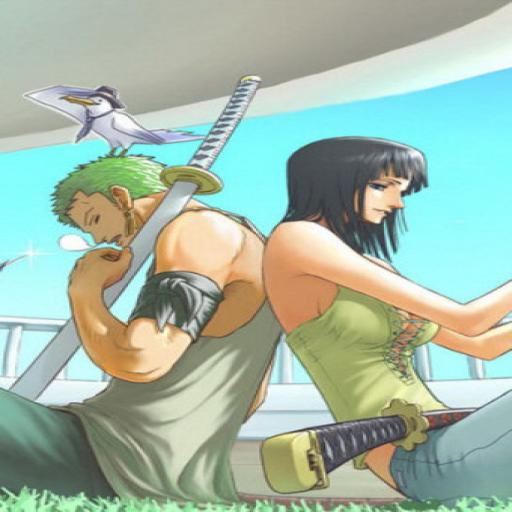NicoRobin: (280, 126, 453, 260)
Zoro: (42, 148, 193, 272)
